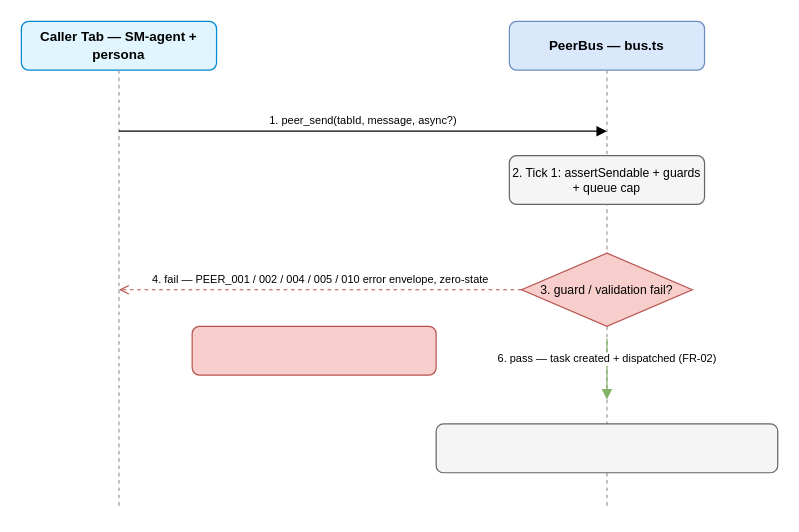
This 799x532 diagram has some shape labels left out. Here are the shapes that lost their labels. From the top down, the centre of each, then its label:
At pixel 313 350: "5. NO task / counter / trace residue".
At pixel 606 448: "PEER_003 / 007 = post-create failures (task exists, marked failed)".
